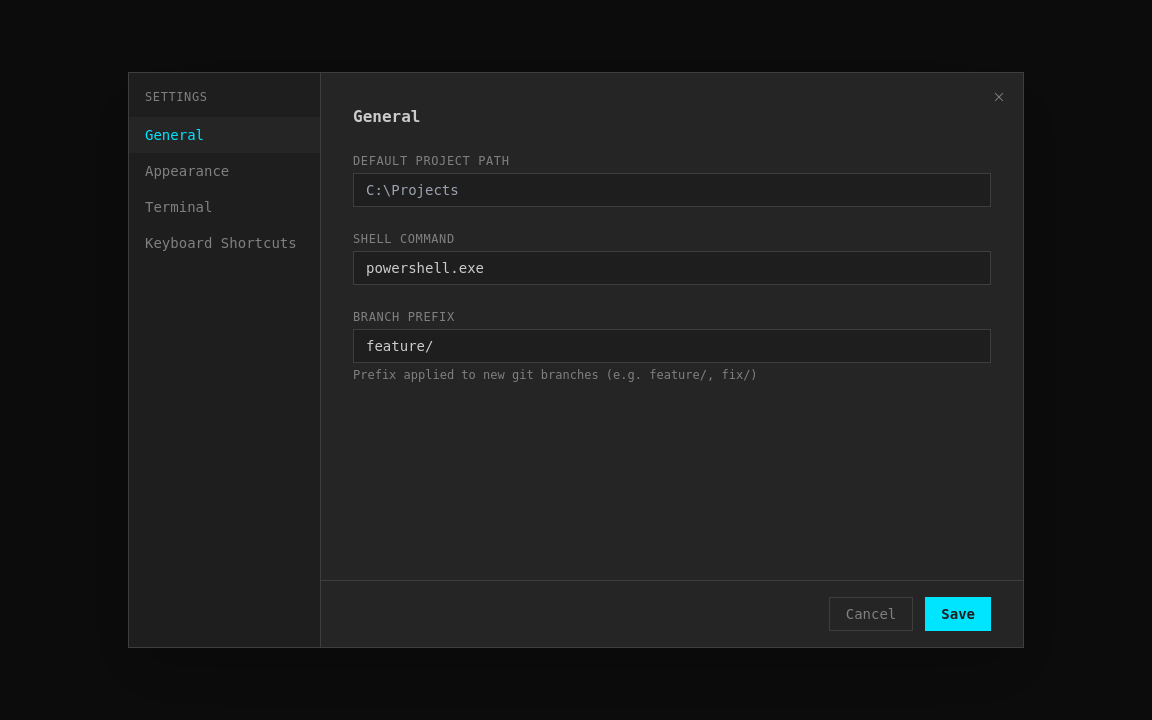
Test: SettingsModal › navigates to Terminal page
What coordinates should you click on to do the following:
click the button with test id "settings-nav-terminal"
I would click on:
 (224, 207)
Its box is [129,189,320,225].
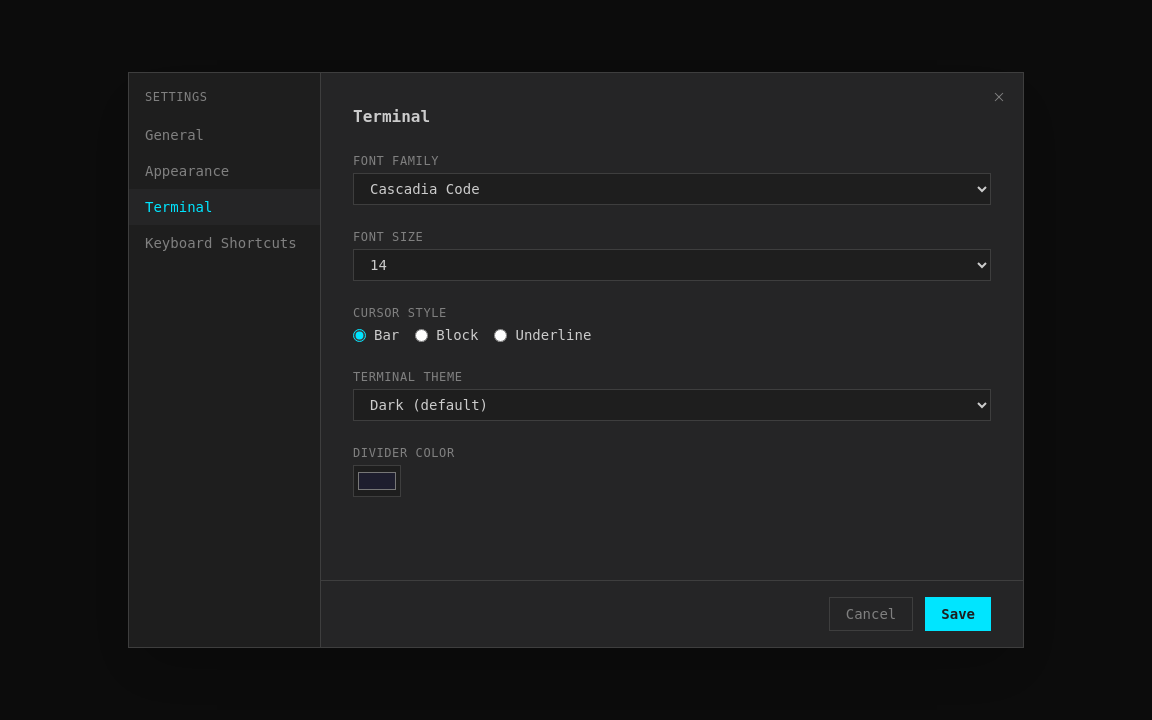
Expected: the element with test id "settings-page-terminal" is shown, [353,105,991,497]
